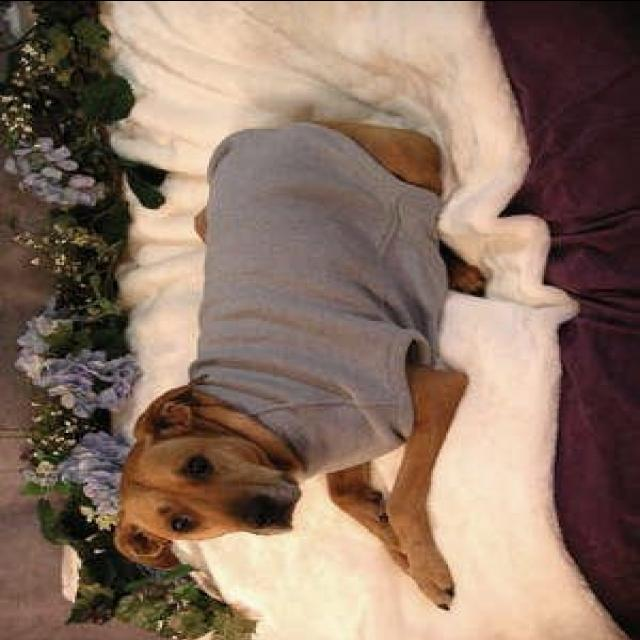rhodesian_ridgeback: (115, 120, 491, 613)
